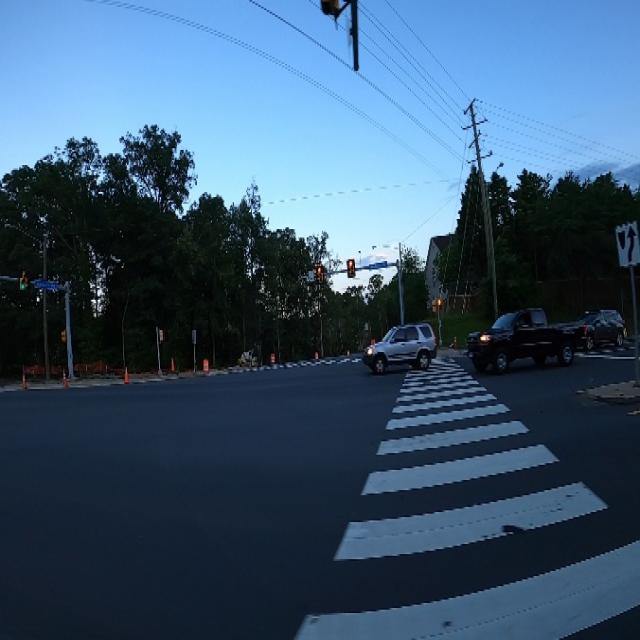cars: (464, 301, 578, 384), (362, 310, 437, 381), (566, 297, 632, 356)
